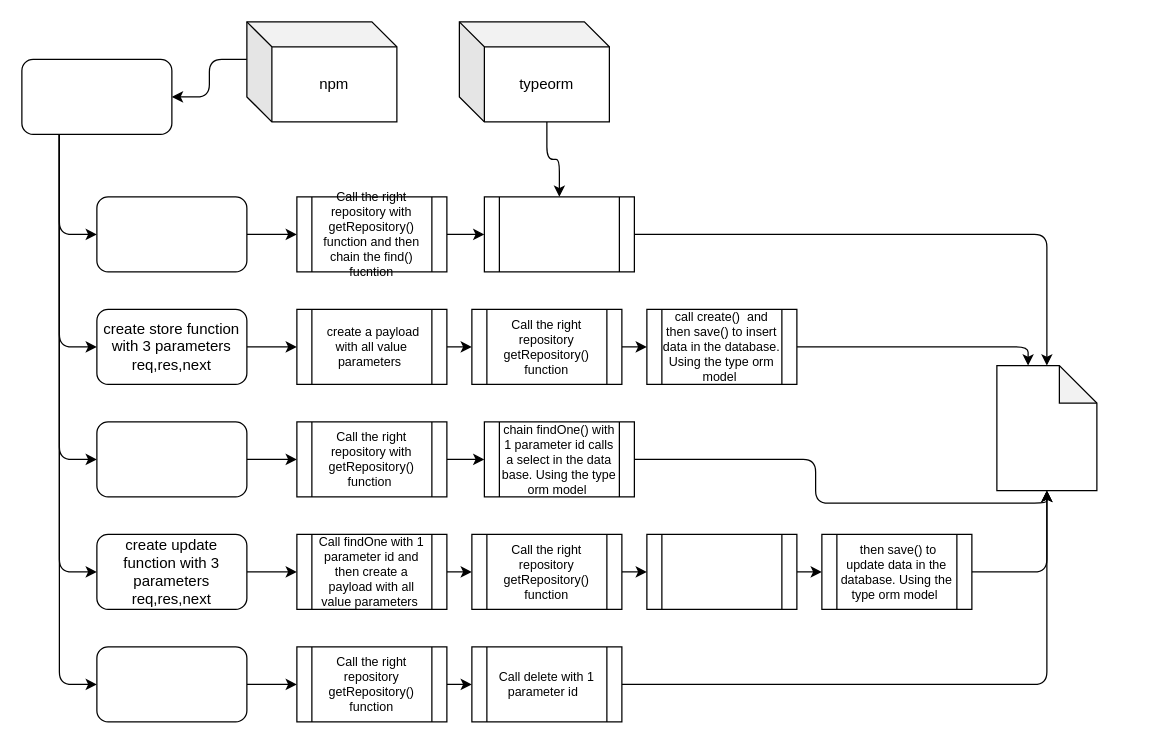
Some shapes in this 1151 by 744 pixel diagram are drawn without their labels. Each missing label, with the centre of its shape:
call merge() with 2 parameters(actualObject, newDataPayload): point 721,571
create destroy function with 3 parameters req,res,next: point 171,684
create index function with 3 parameters req,res,next: point 171,234
create show function with 3 parameters req,res,next: point 171,459
find() calls a select in the data base. Using the type orm model: point 558,234
import npm & custom modules: point 96,96
models/photos.models.js: point 1046,427
